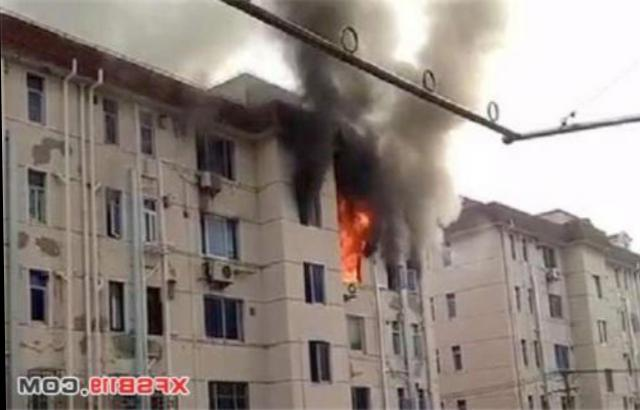fire: (333, 190, 377, 284)
